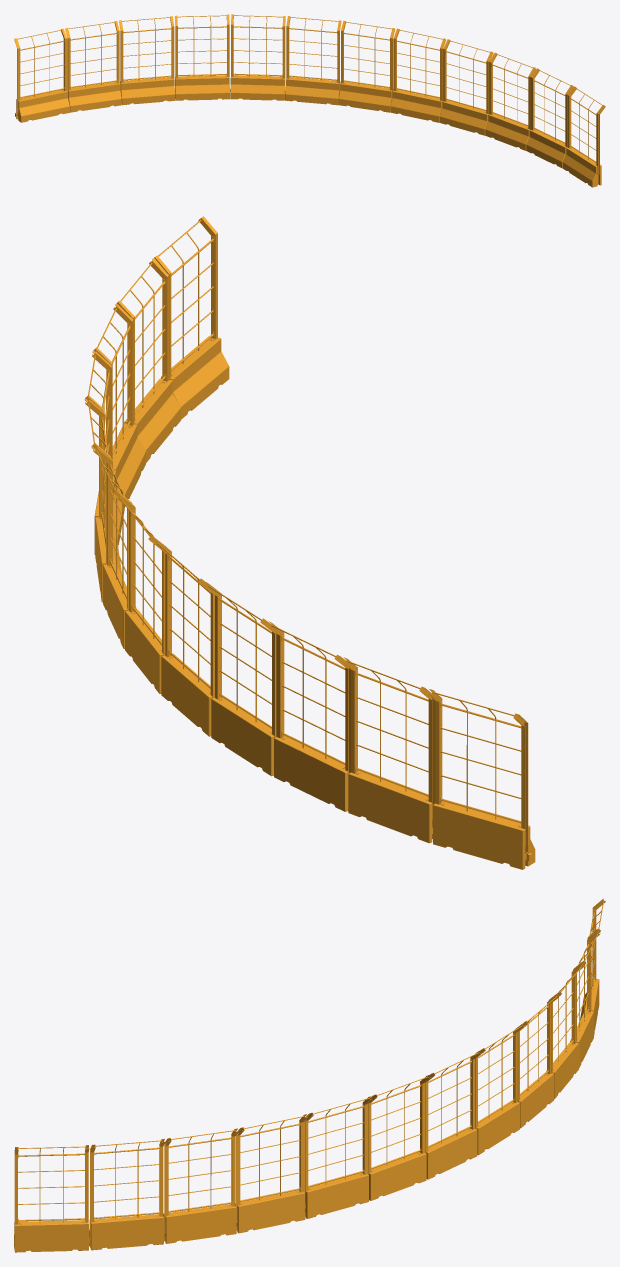
Rendered from SM_Fence_Road_Debrisguard_Bar_20m_Corner_Inner.fbx.
3 views of the same model, one above another, from view 1: azimuth 30°, elevation 25°; view 2: azimuth 150°, elevation 25°; view 3: azimuth 270°, elevation 25° (orthographic). The views are drawn at different scales.
Visible parts, largest first — view 1: SM_Fence_Road_Debrisguard_Bar_20m_Corner_Inner; view 2: SM_Fence_Road_Debrisguard_Bar_20m_Corner_Inner; view 3: SM_Fence_Road_Debrisguard_Bar_20m_Corner_Inner.
Part boxes in pixels (x1,y1,x2,y2): SM_Fence_Road_Debrisguard_Bar_20m_Corner_Inner: [14, 14, 605, 187]; SM_Fence_Road_Debrisguard_Bar_20m_Corner_Inner: [84, 216, 535, 869]; SM_Fence_Road_Debrisguard_Bar_20m_Corner_Inner: [14, 898, 605, 1252].
Size of the model in its own units: 19.44 by 3.87 by 19.34.
